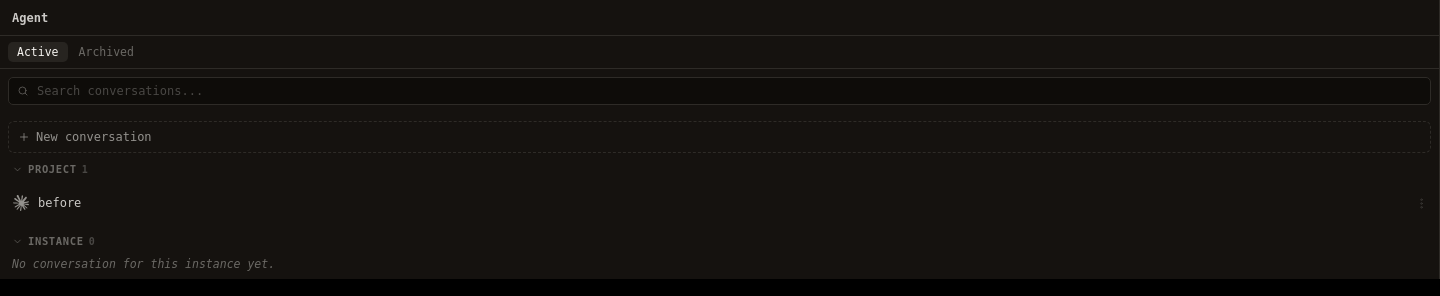
ConversationHistoryPanel › renaming › keeps the old title when Escape cancels
The width and height of the screenshot is (1440, 296).
Step 1. Click the button titled "actions" → coordinates (1421, 203), box x1=1407 y1=189 x2=1435 y2=217
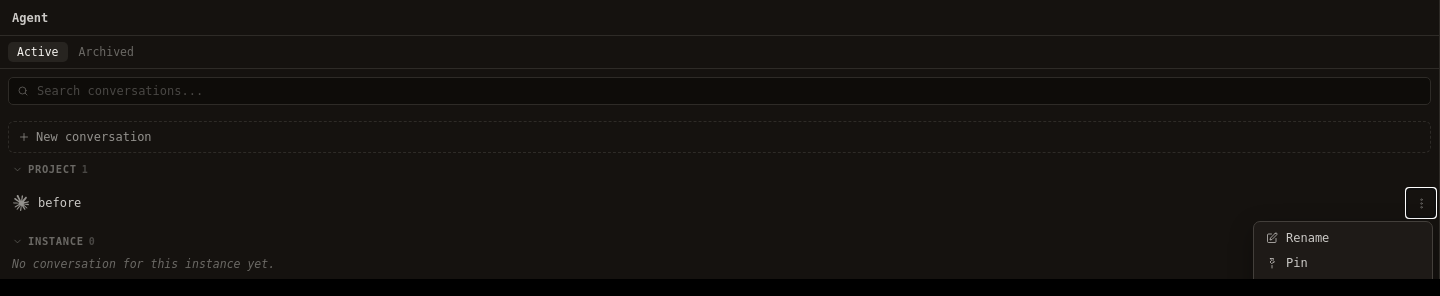
Step 2. Click the button "Rename" → coordinates (1343, 238), box x1=1258 y1=226 x2=1428 y2=250
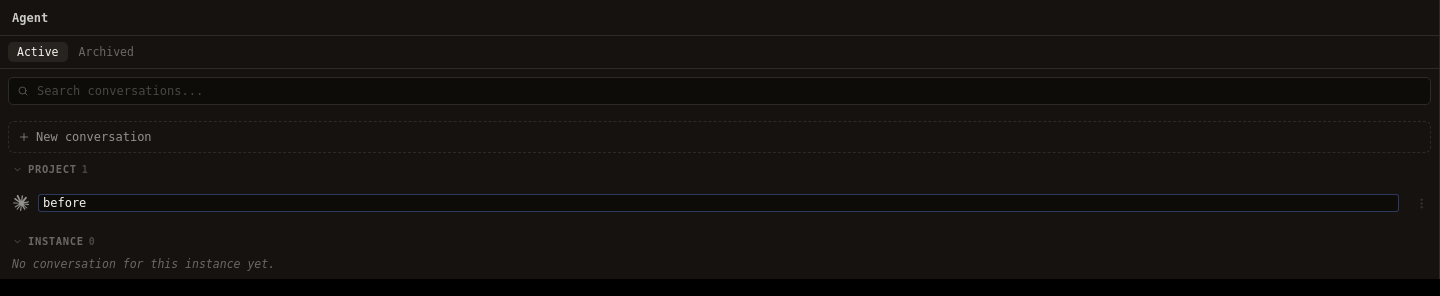
Step 3. Type "x" into the field with class "rename-input" → coordinates (718, 203), box x1=38 y1=194 x2=1399 y2=212
Then press Escape
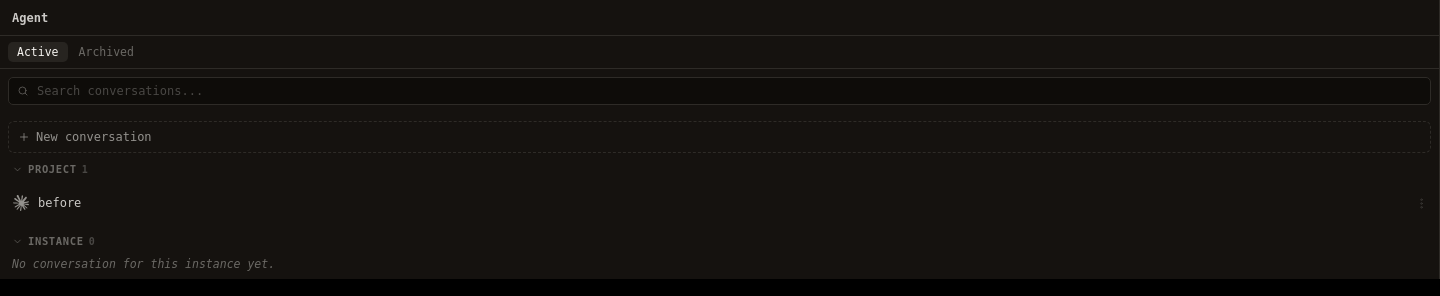
Expected: the field with class "rename-input" is gone
